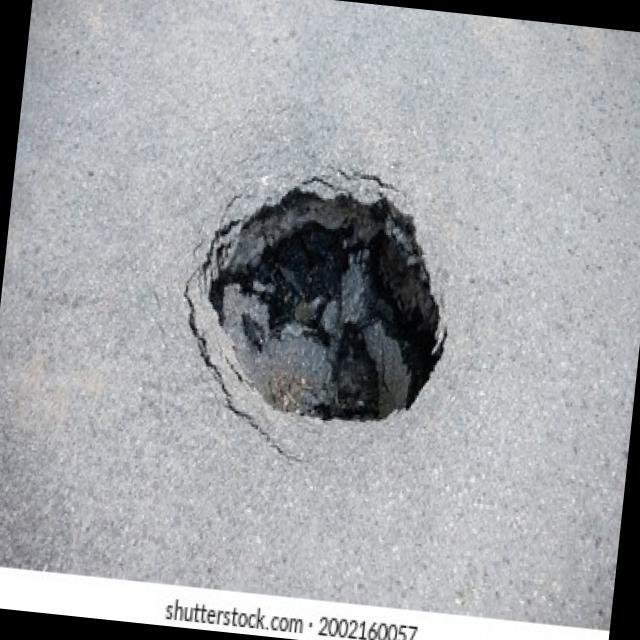Pothole: (178, 155, 466, 441)
